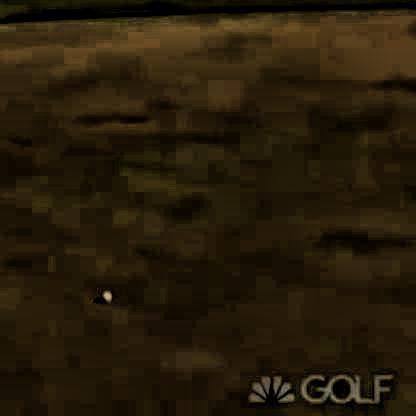golfball: (100, 285, 110, 298)
